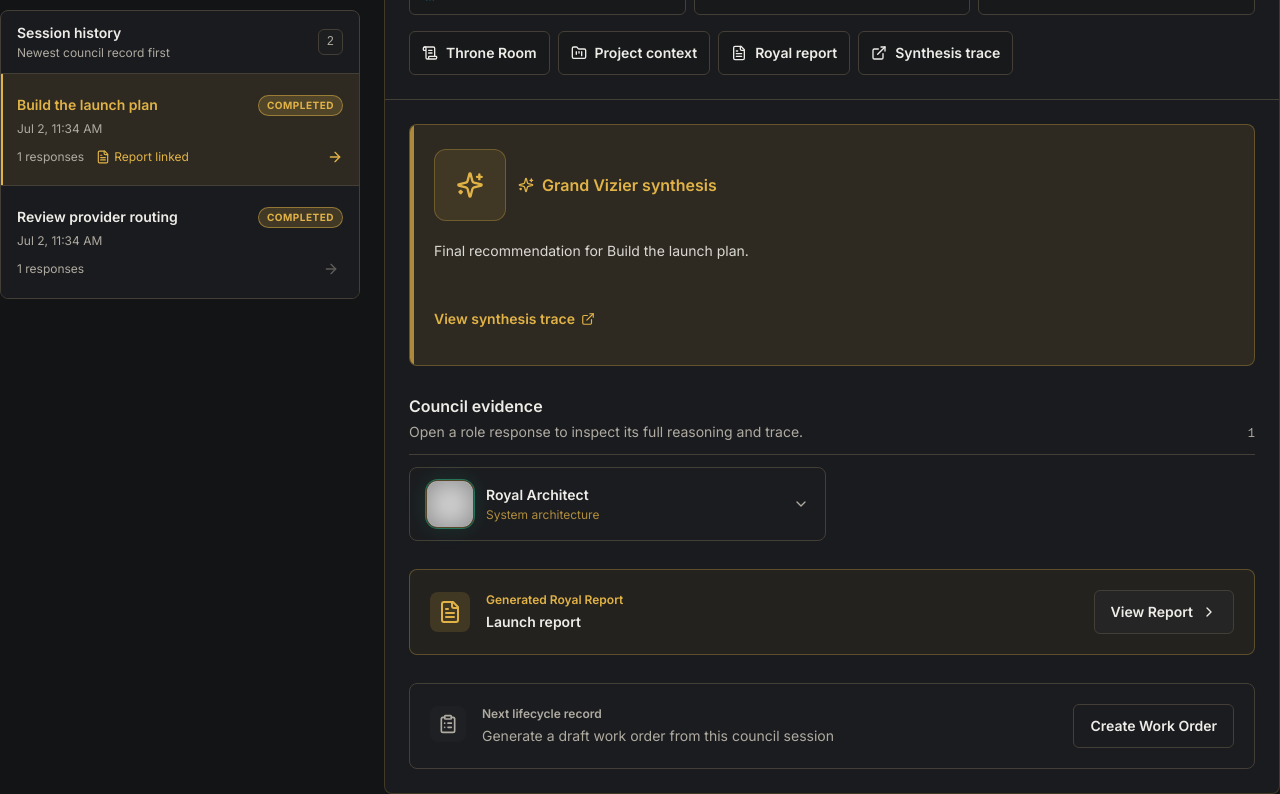
Test case: CouncilPage › renders a selected session rail and source-linked evidence pane
(page scrolled)
Expected: the text "Detailed architecture evidence for Build the launch plan." is not shown
Click the text "Royal Architect": (537, 494) [486,486,589,503]
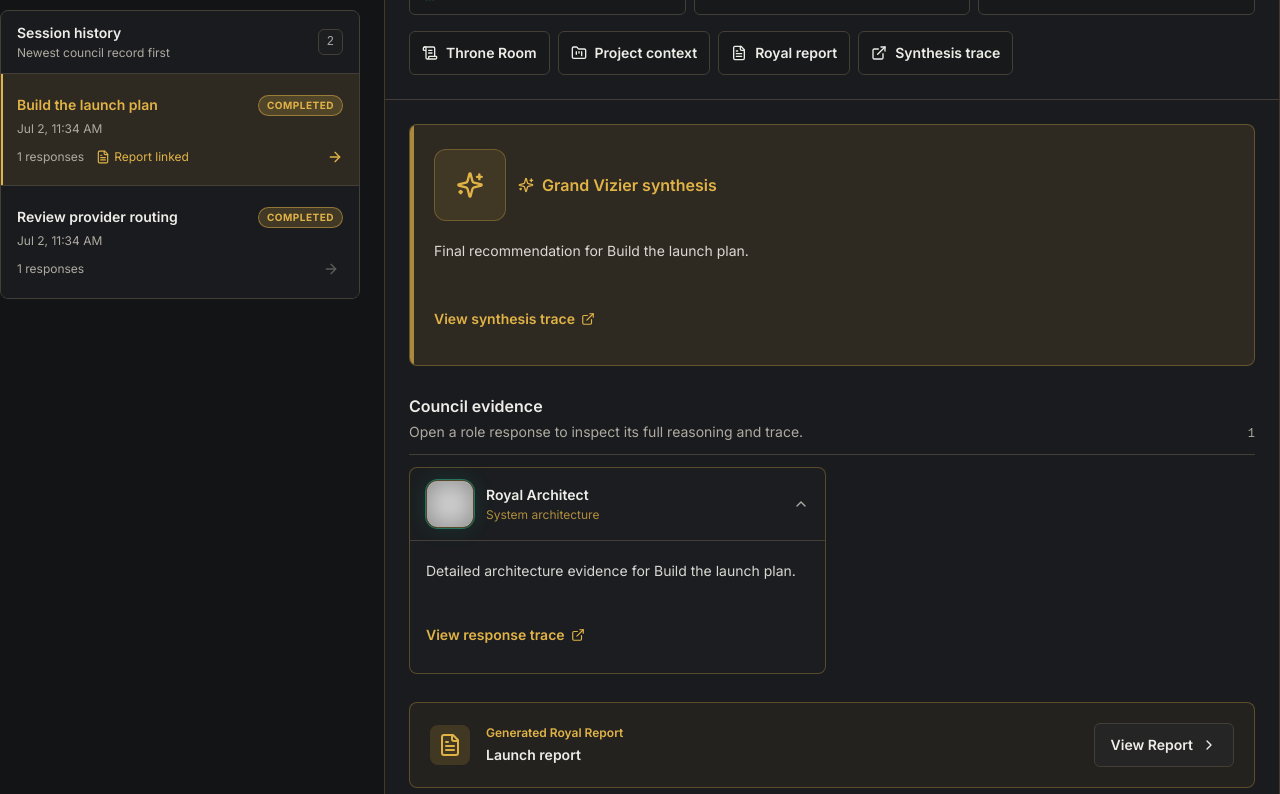
Now the text "Detailed architecture evidence for Build the launch plan." is shown, box [426,557,809,585]
